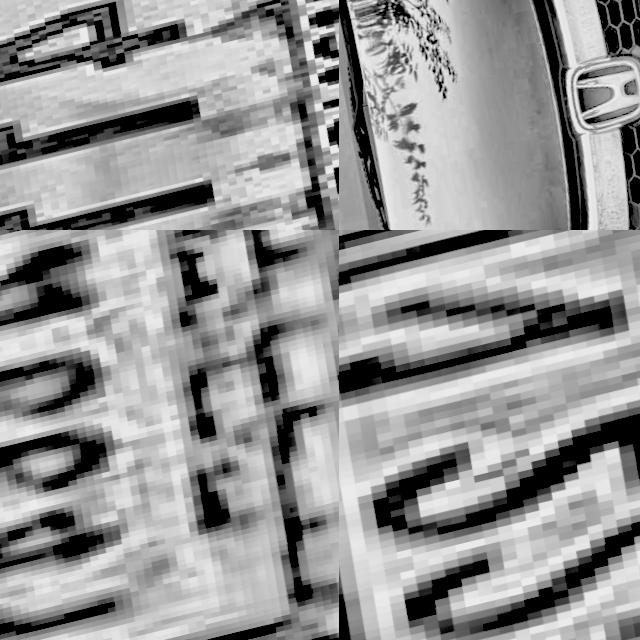license-plate: (0, 230, 339, 640), (339, 230, 640, 640), (0, 0, 339, 230)
